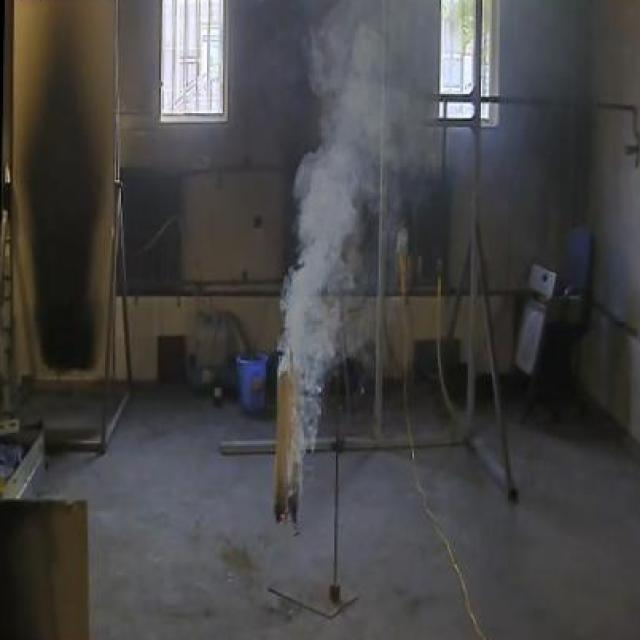fire: (278, 0, 447, 353)
